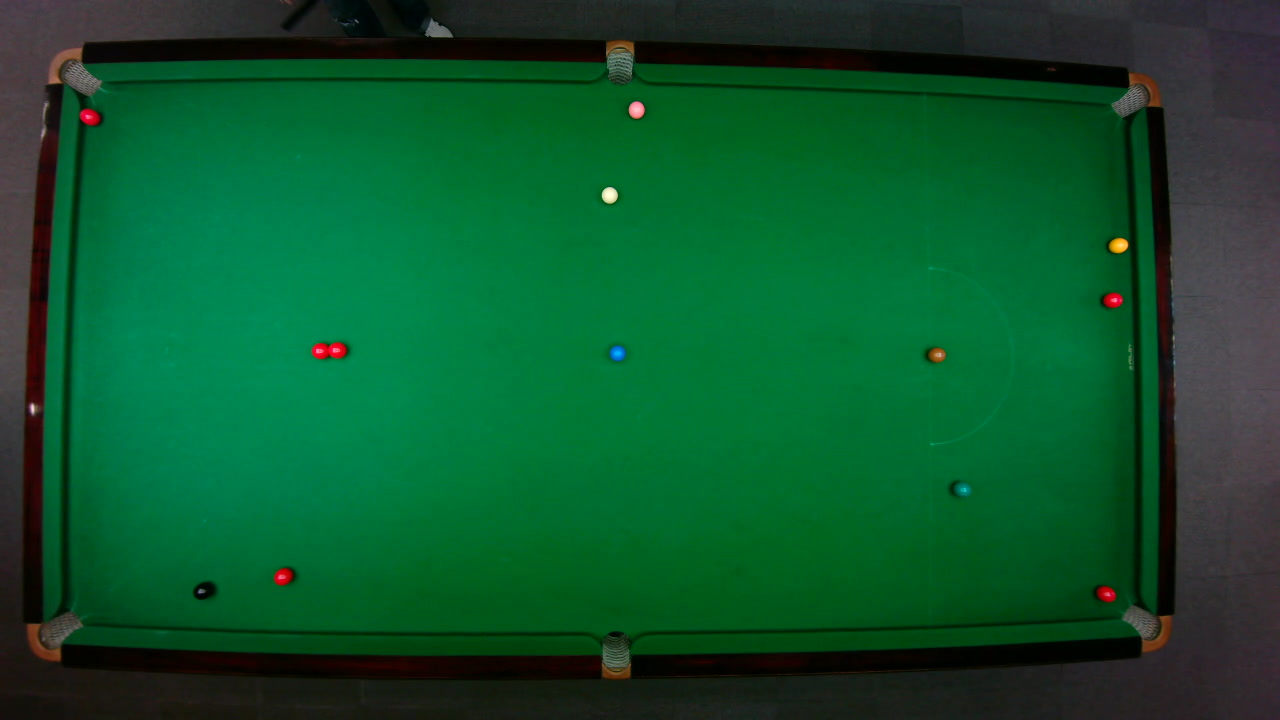bag: (25, 609, 84, 661), (46, 46, 102, 96), (1119, 603, 1172, 652), (1108, 71, 1161, 118), (600, 629, 630, 680), (605, 38, 633, 85)
black: (192, 581, 213, 600)
blue: (608, 344, 626, 361)
brown: (926, 346, 946, 362)
green: (951, 480, 972, 497)
pink: (626, 99, 645, 119)
red: (77, 106, 101, 126), (271, 566, 294, 585), (324, 340, 347, 359), (1094, 584, 1116, 602), (1101, 291, 1123, 308), (310, 341, 330, 359)
white: (599, 185, 619, 204)
yellow: (1107, 236, 1129, 253)
zone: (927, 265, 1013, 445)
